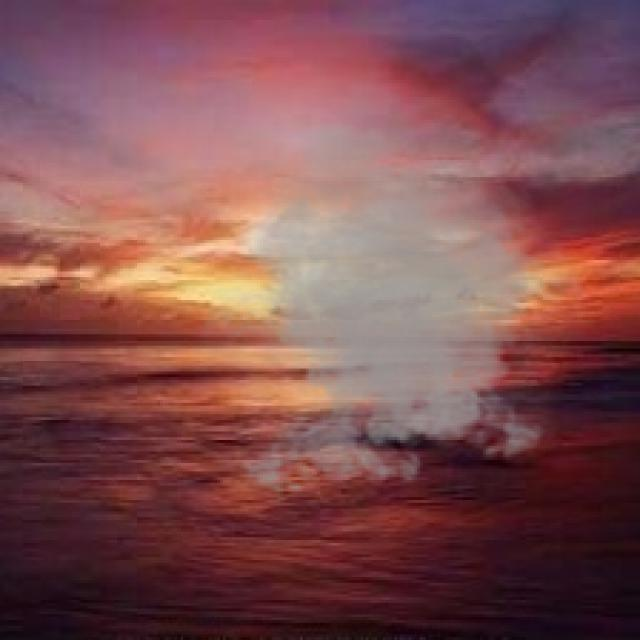smoke: (180, 117, 606, 506)
